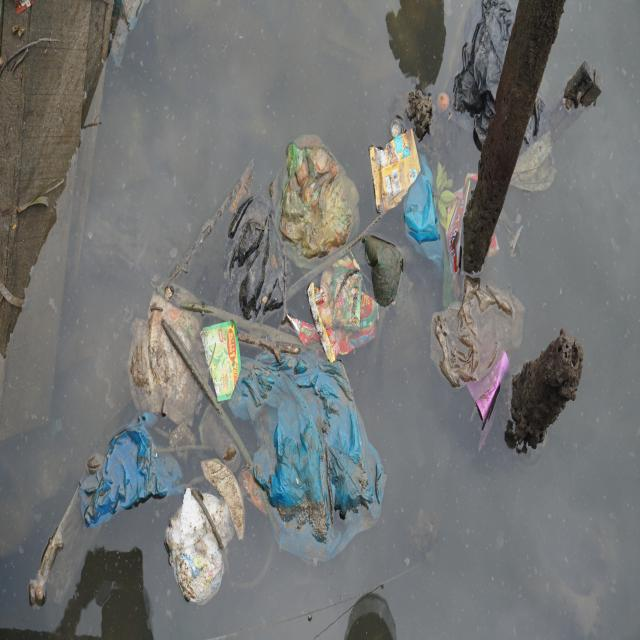Bungkus Makanan: (308, 276, 382, 358), (280, 310, 326, 358)
Bungkus Minuman: (367, 130, 422, 219)
Kantong Plastik: (237, 338, 386, 555), (461, 1, 555, 162), (75, 416, 178, 545), (431, 278, 530, 390), (218, 191, 289, 314), (404, 151, 446, 265)
